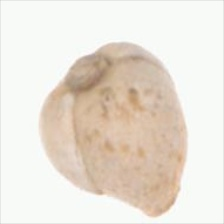L4: (39, 42, 187, 217)
